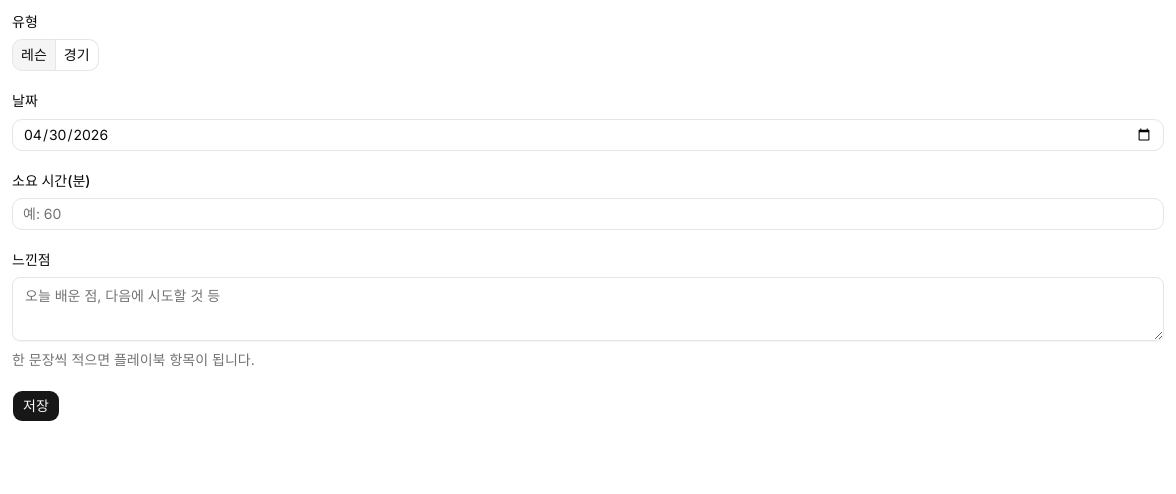
Test: RecordForm — 레슨 기록 › 날짜 빈 채 저장하면 '날짜를 입력하세요' 메시지가 표시된다
Clear the date field labelled "날짜": (588,134) [12,118,1164,150]
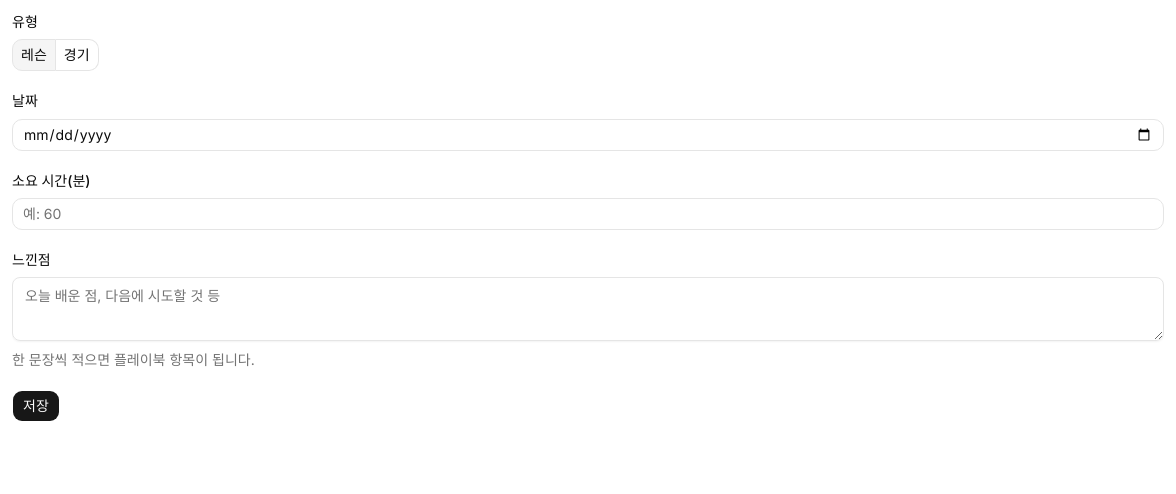
Click the button "저장": (36,406) [12,390,60,422]
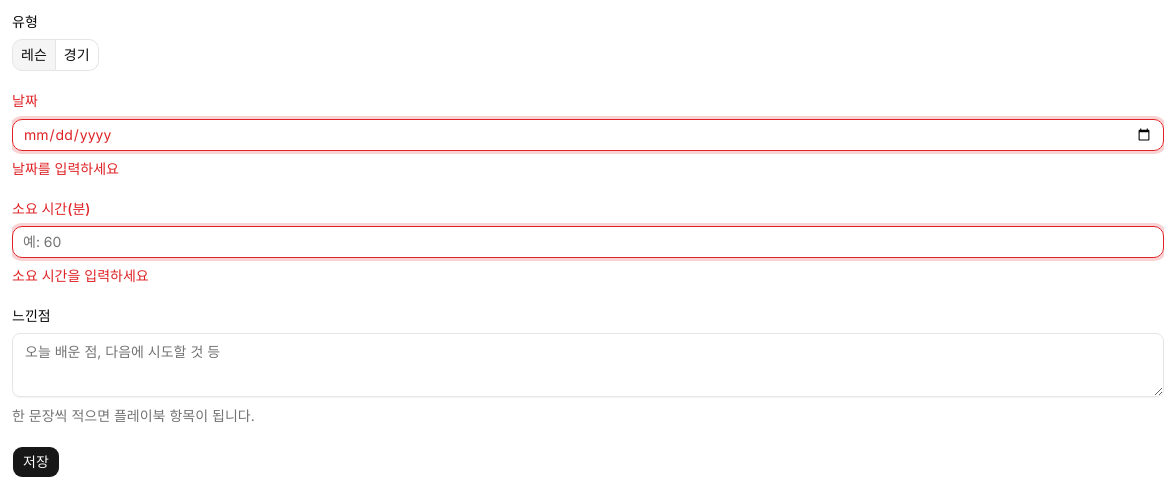
expect the text "날짜를 입력하세요" is shown: met, box [12,160,119,176]
